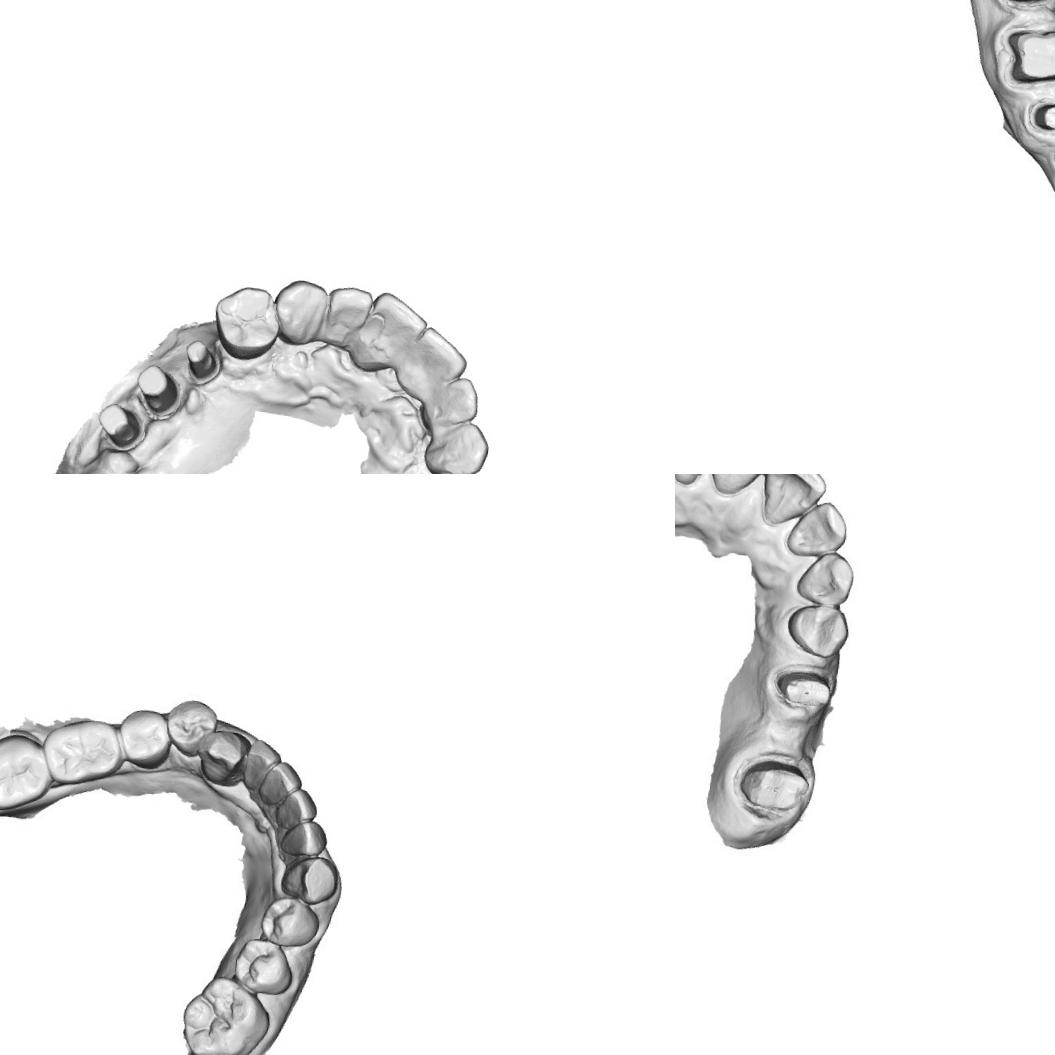abutment: (92, 398, 148, 454), (131, 360, 183, 418), (181, 337, 224, 387)
canine: (269, 275, 330, 344), (421, 415, 491, 474), (794, 550, 859, 608), (196, 724, 250, 778), (284, 858, 338, 905)
crown: (738, 756, 815, 818), (774, 663, 841, 717), (1004, 25, 1055, 87), (1032, 96, 1055, 141)
incisor: (364, 288, 432, 361), (408, 323, 471, 392), (424, 373, 482, 429), (322, 282, 375, 340), (761, 474, 823, 522), (786, 501, 842, 554), (238, 737, 282, 793), (276, 788, 320, 832), (282, 822, 328, 858), (260, 763, 300, 802), (708, 474, 774, 491)
molar: (180, 980, 272, 1055), (40, 718, 124, 786), (0, 728, 55, 817)
premolar: (208, 280, 285, 364), (228, 938, 296, 1000), (782, 602, 852, 662), (118, 708, 176, 768), (165, 694, 218, 755), (260, 898, 322, 948)
